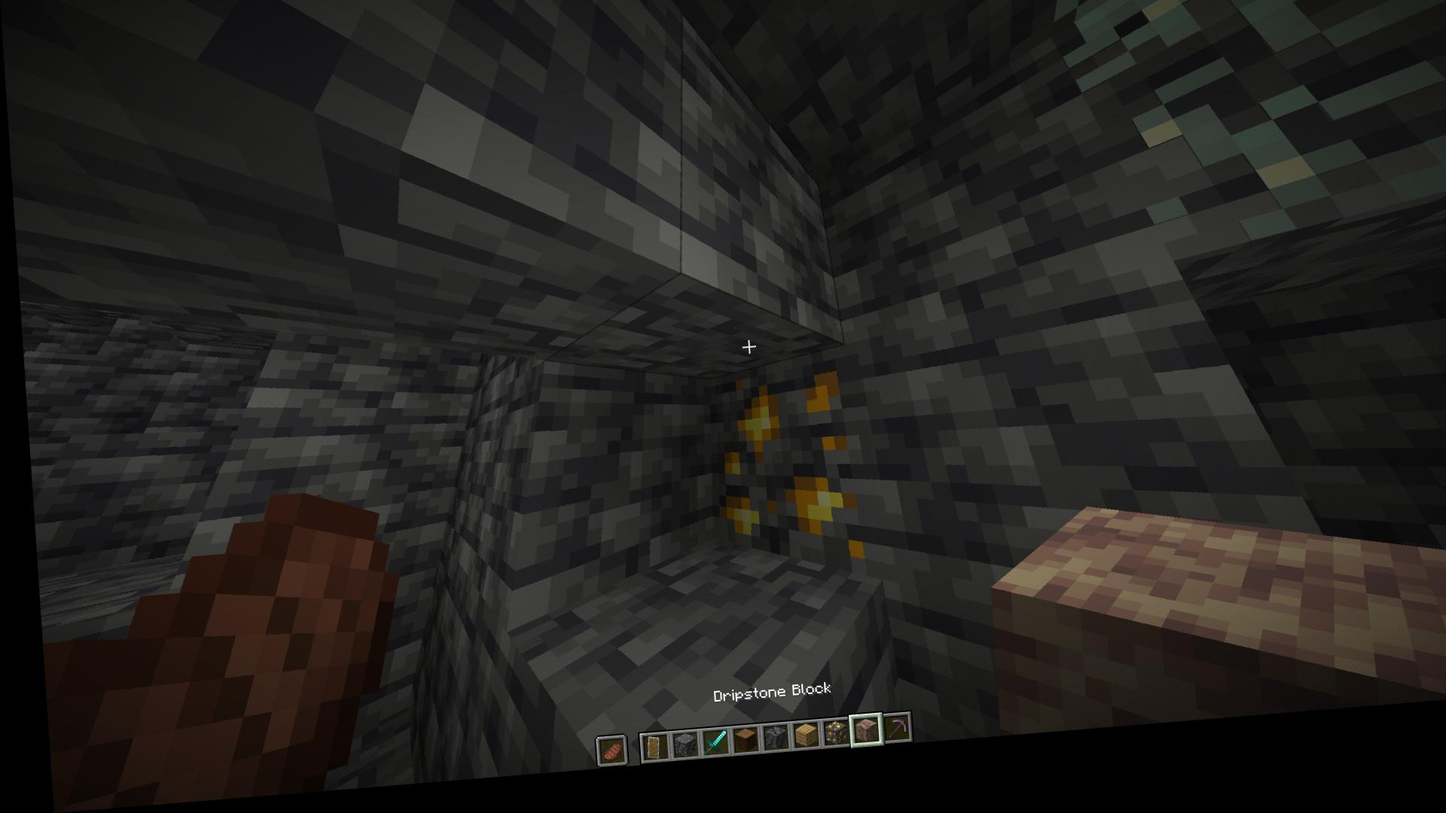gold ore: (703, 377, 859, 584)
